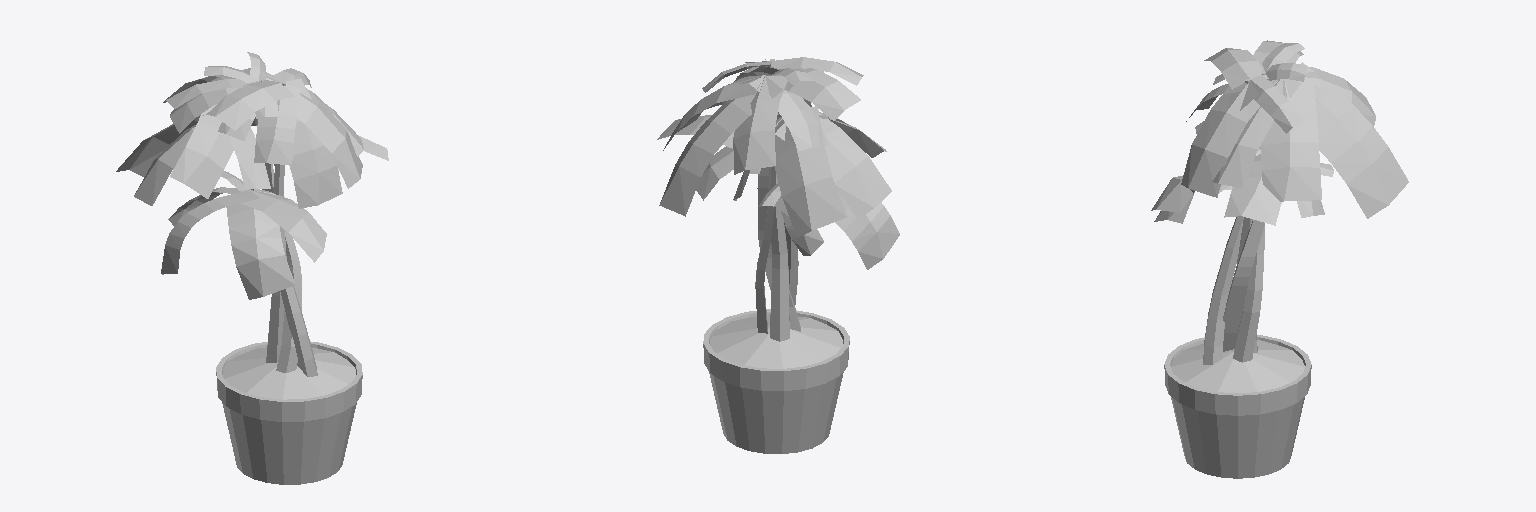
The model's file is eb_house_plant_03.obj.
The picture shows the model from 3 angles: view 1: azimuth 30°, elevation 25°; view 2: azimuth 150°, elevation 25°; view 3: azimuth 270°, elevation 25°; orthographic projection.
Visible parts, largest first — view 1: eb_house_plant_03; view 2: eb_house_plant_03; view 3: eb_house_plant_03.
Part boxes in pixels (left/top/right/bottom): eb_house_plant_03: left=116, top=52, right=388, bottom=484; eb_house_plant_03: left=657, top=57, right=899, bottom=453; eb_house_plant_03: left=1151, top=40, right=1408, bottom=478.
Bounding box in the file's own units: 1.87 × 3.03 × 1.83.